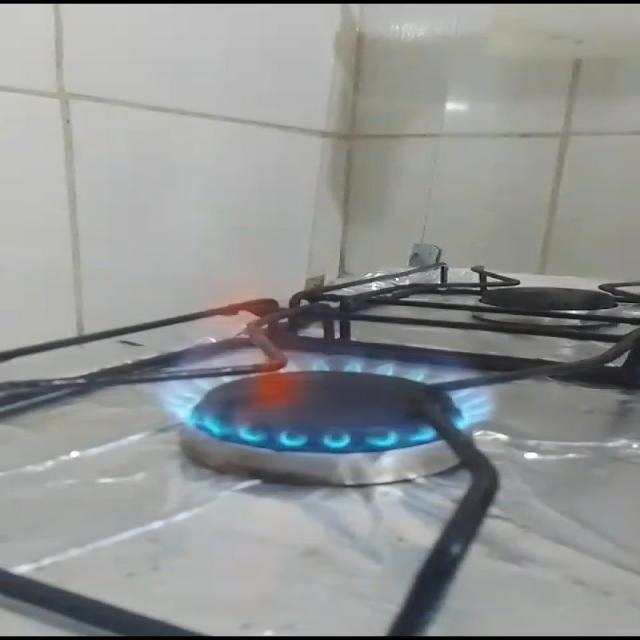fogo-ypXI: (149, 254, 500, 451)
